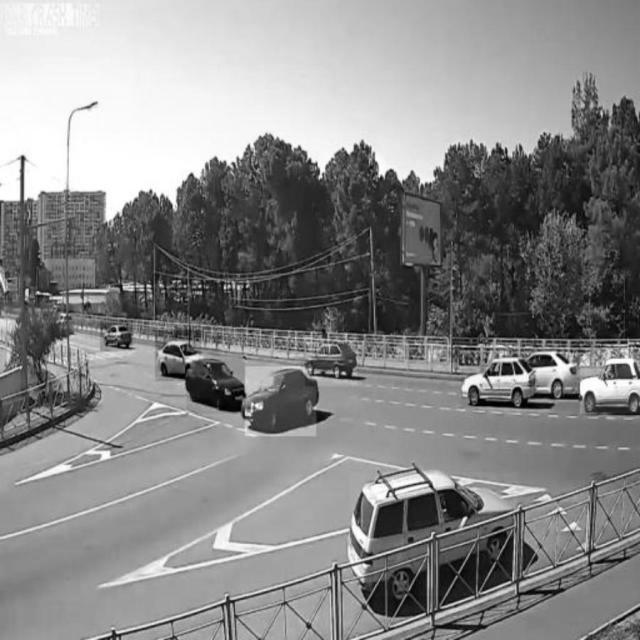vehicle: (351, 472, 518, 596), (246, 366, 317, 436), (462, 359, 535, 409), (580, 357, 640, 414), (186, 357, 244, 414), (306, 335, 358, 386), (155, 330, 201, 381), (536, 350, 573, 401), (100, 320, 132, 350)
